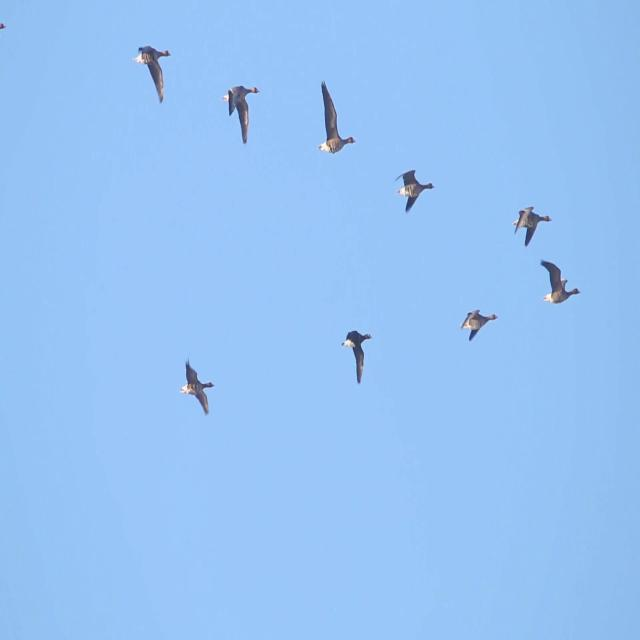bird: (316, 82, 358, 156), (134, 46, 174, 102), (223, 86, 259, 148), (180, 358, 216, 416), (394, 169, 438, 216), (540, 262, 582, 306), (341, 333, 375, 385), (514, 208, 556, 246), (460, 308, 499, 342)
